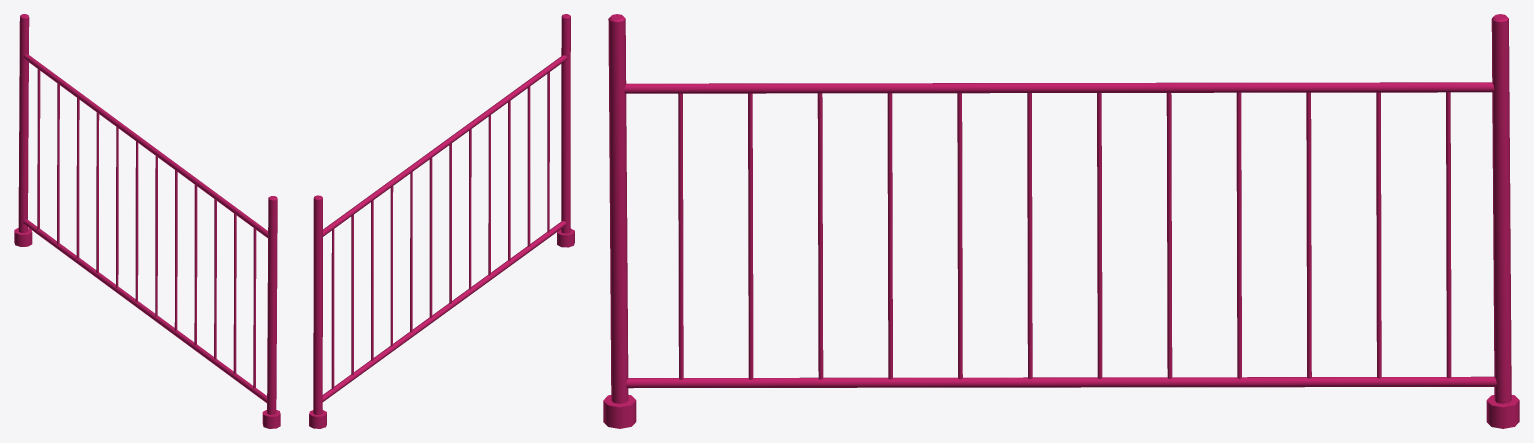
File: parking_fence.FBX
The picture shows the model from 3 angles, left to right: view 1: azimuth 30°, elevation 25°; view 2: azimuth 150°, elevation 25°; view 3: azimuth 270°, elevation 25°; orthographic projection. The views are drawn at different scales.
Parts seen in each view (by area): view 1: parking_fence; view 2: parking_fence; view 3: parking_fence.
Boxes of the visible parts, box(x1,y1,x2,y2) form: parking_fence: box(14, 14, 280, 428); parking_fence: box(309, 14, 574, 428); parking_fence: box(603, 14, 1519, 428).
Size of the model in its own units: 0.1155 by 1.56 by 3.19.
